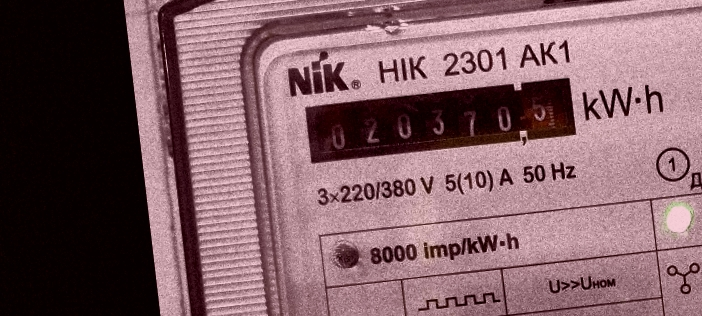0: (493, 102, 515, 134), (327, 120, 348, 151), (395, 110, 413, 140)
2: (361, 114, 382, 147)
3: (427, 105, 447, 137)
5: (528, 91, 550, 124)
7: (461, 107, 479, 139)
screen: (297, 68, 586, 176)
